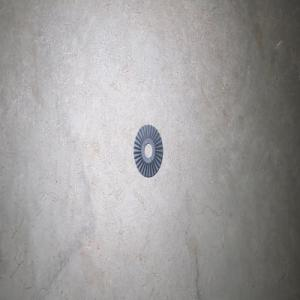Washer: (133, 124, 163, 177)
